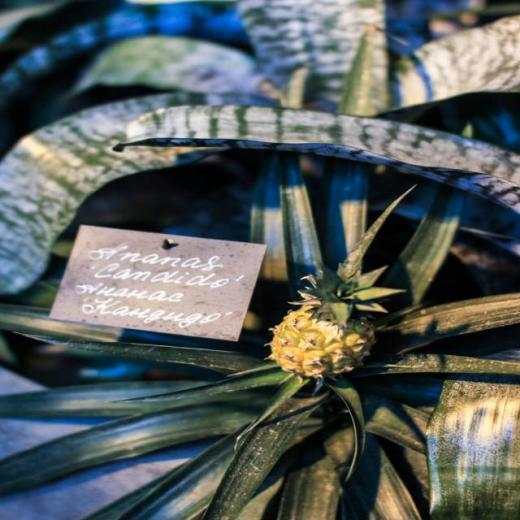Mango: (262, 261, 410, 384)
